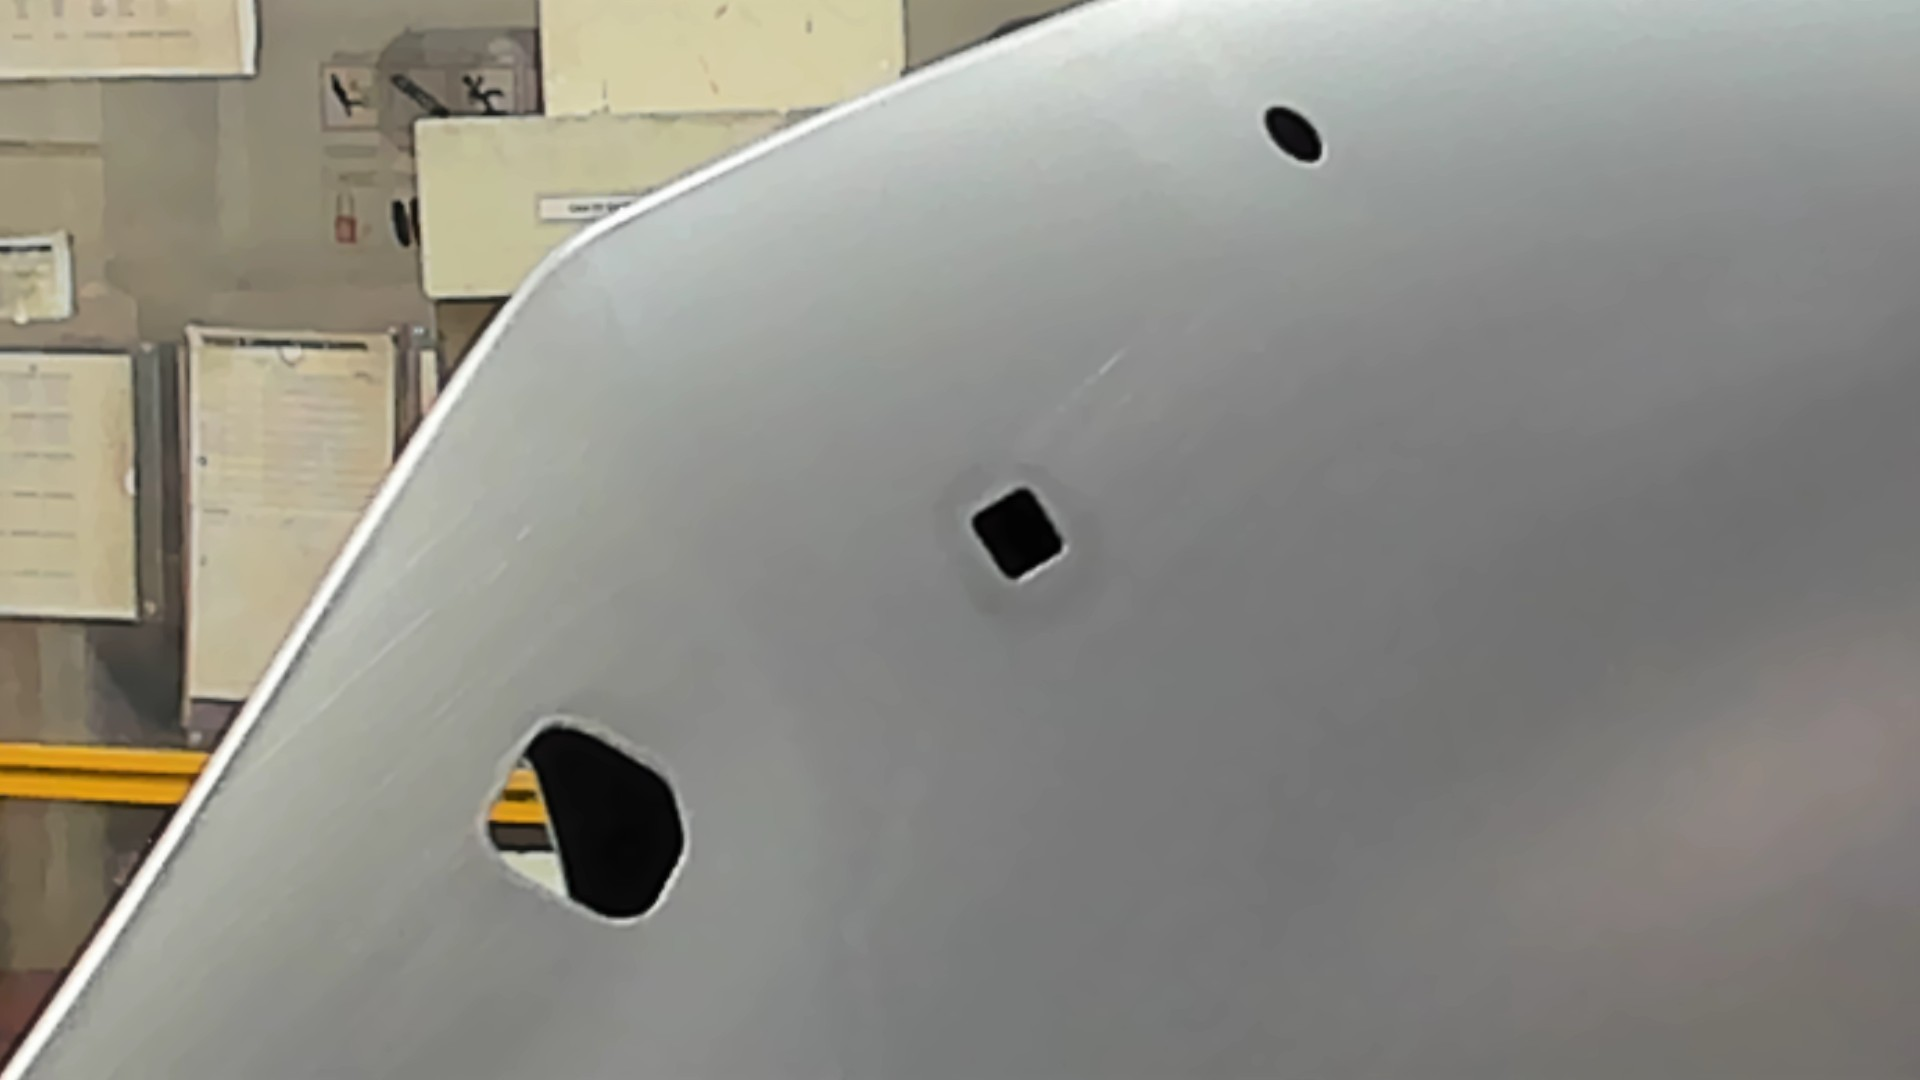chico: (1261, 102, 1325, 167)
grande: (475, 713, 694, 928)
mediano: (968, 483, 1069, 585)
